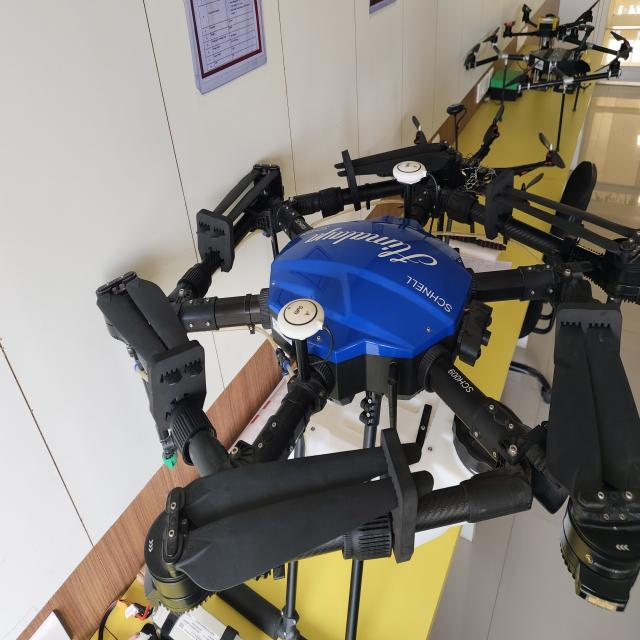agriculturedrone: (89, 149, 640, 627)
